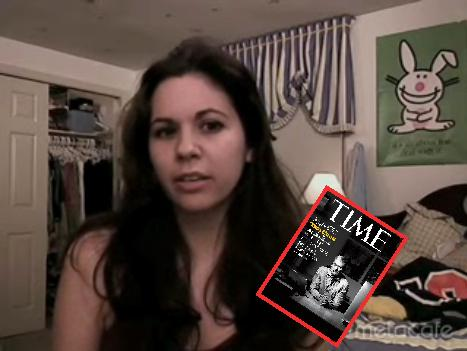times: (251, 183, 412, 350)
